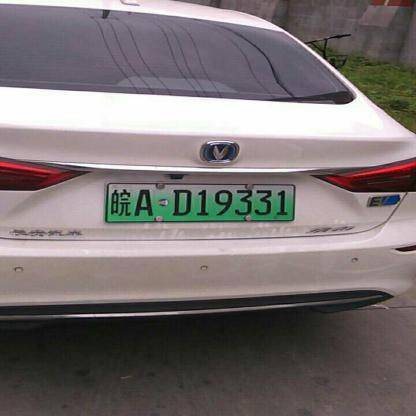lp: (107, 183, 294, 221)
